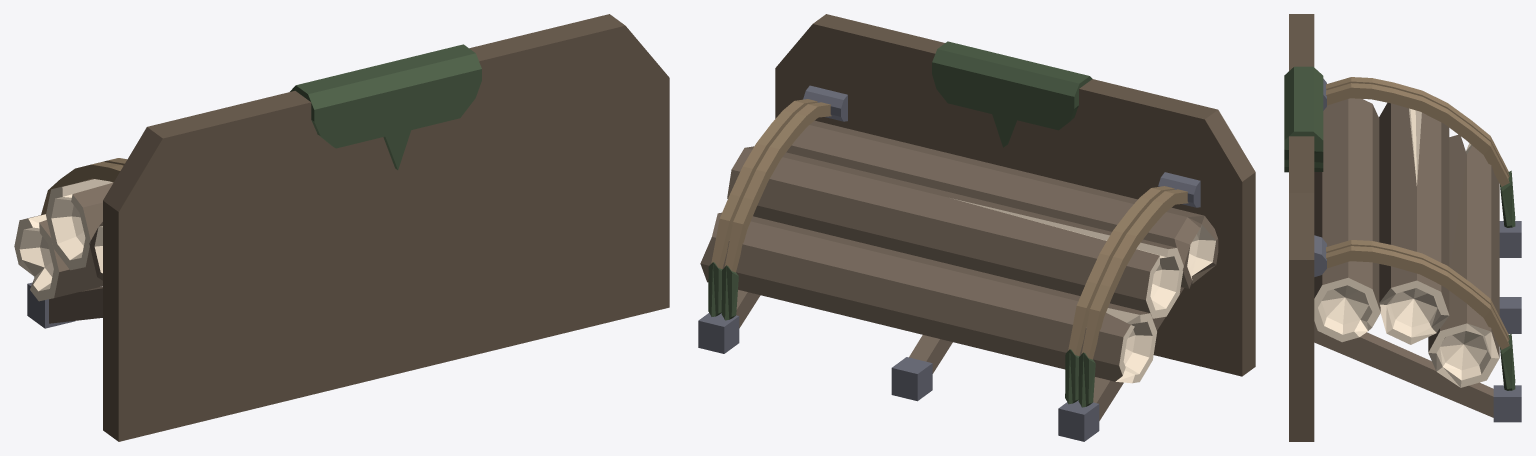
The model's file is _andiron1.fbx.
The picture shows the model from 3 angles, left to right: view 1: azimuth 30°, elevation 25°; view 2: azimuth 150°, elevation 25°; view 3: azimuth 270°, elevation 25°; orthographic projection. The views are drawn at different scales.
Visible parts, largest first — view 1: andiron1; view 2: andiron1; view 3: andiron1.
Part boxes in pixels (x1,y1,x2,y2): andiron1: [14, 14, 669, 441]; andiron1: [698, 14, 1255, 441]; andiron1: [1284, 14, 1521, 441].
Size of the model in its own units: 475 by 246 by 224.
